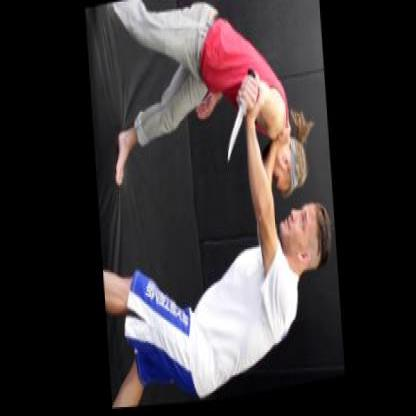knife: (216, 65, 262, 170)
